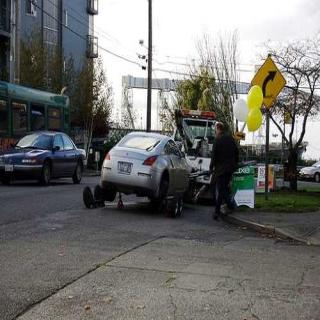Towing_truck: (171, 105, 223, 203)
